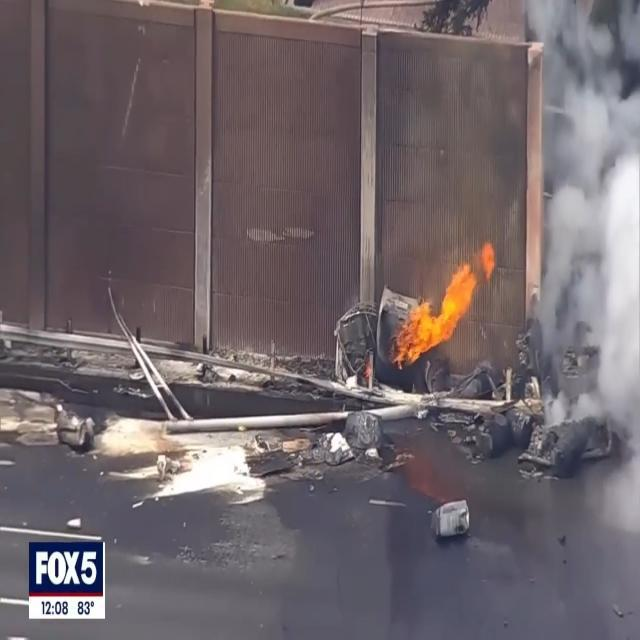fire: (396, 236, 498, 375)
